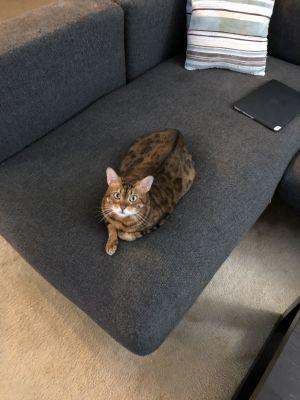bengal: (96, 162, 161, 230)
